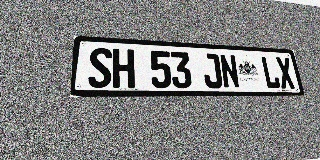3: (170, 51, 192, 88)
5: (150, 50, 172, 88)
H: (112, 48, 135, 88)
J: (201, 53, 223, 88)
L: (260, 56, 281, 89)
N: (219, 54, 240, 88)
S: (88, 47, 112, 88)
X: (275, 57, 296, 89)
